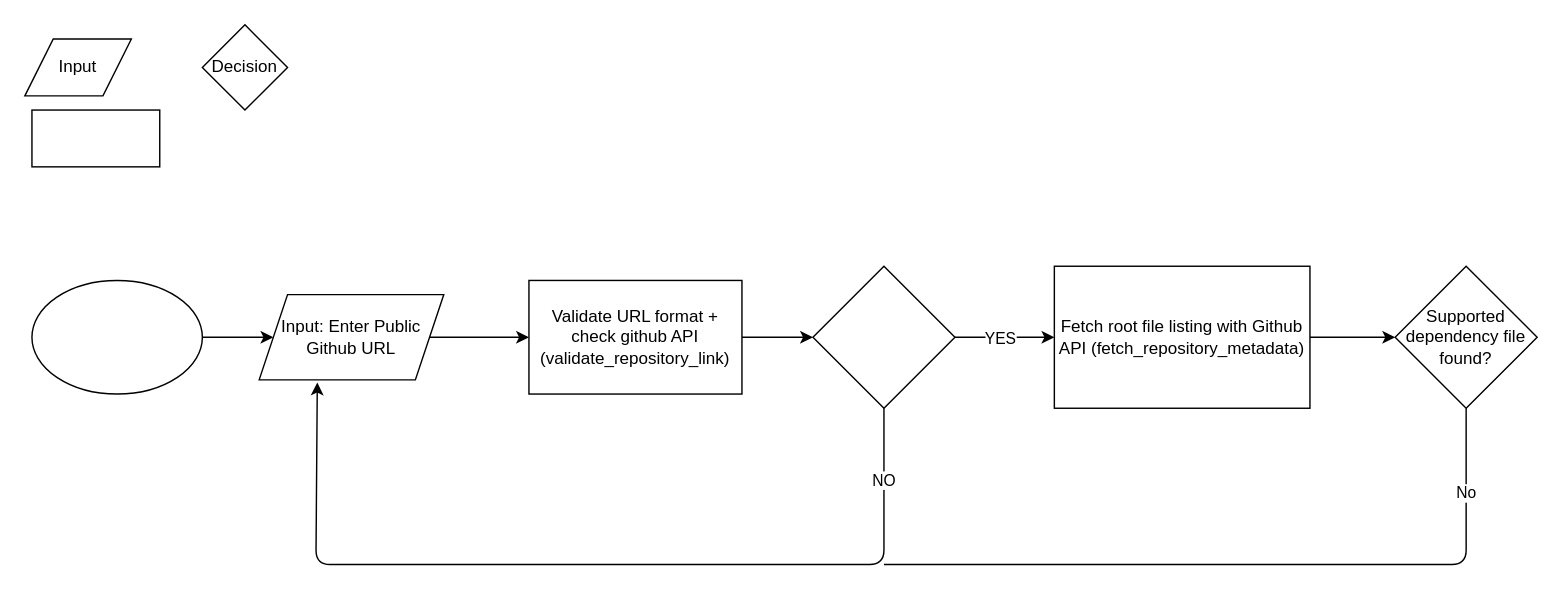
This 1562x601 diagram has some shape labels left out. Each missing label, with the box of its shape:
Process: (31, 109, 160, 167)
Start: (31, 279, 202, 394)
Valid Repository?: (812, 265, 955, 408)
